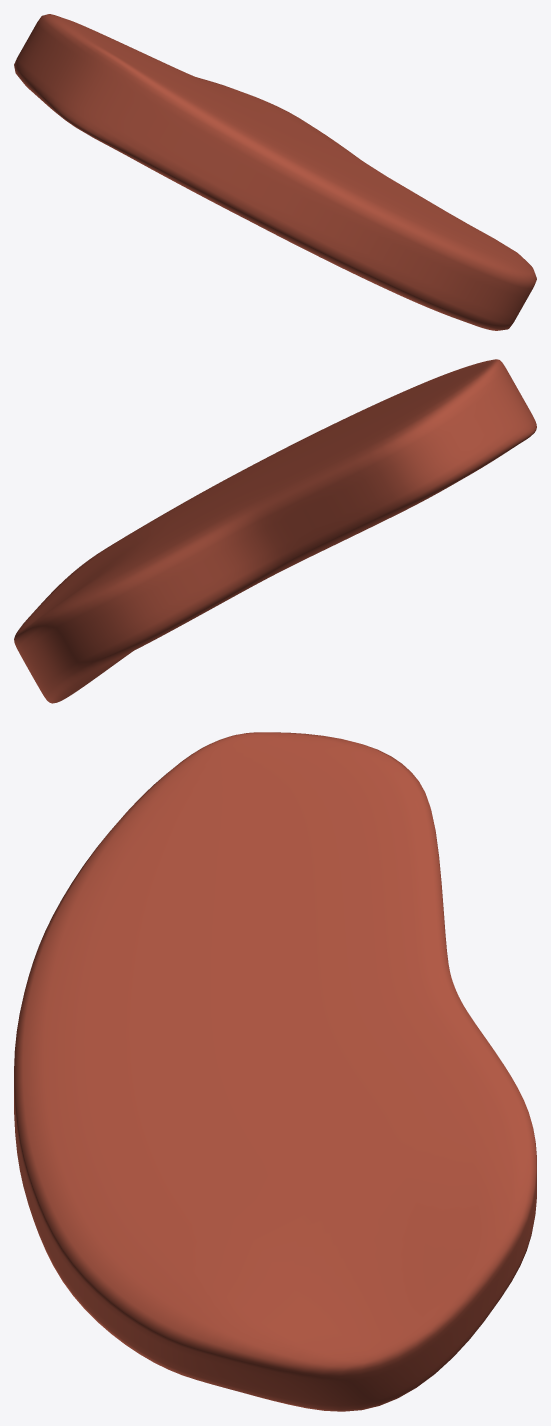
The model's file is steak.fbx.
3 renders of one model, top to bottom at view 1: azimuth 30°, elevation 25°; view 2: azimuth 150°, elevation 25°; view 3: azimuth 270°, elevation 25°, orthographic. The views are drawn at different scales.
Parts seen in each view (by area): view 1: Cube.008; view 2: Cube.008; view 3: Cube.008.
Part boxes in pixels (x1,y1,x2,y2): Cube.008: (14,14,536,330); Cube.008: (14,359,536,703); Cube.008: (14,732,536,1411).
Bounding box in the file's own units: 235 × 184 × 193.
